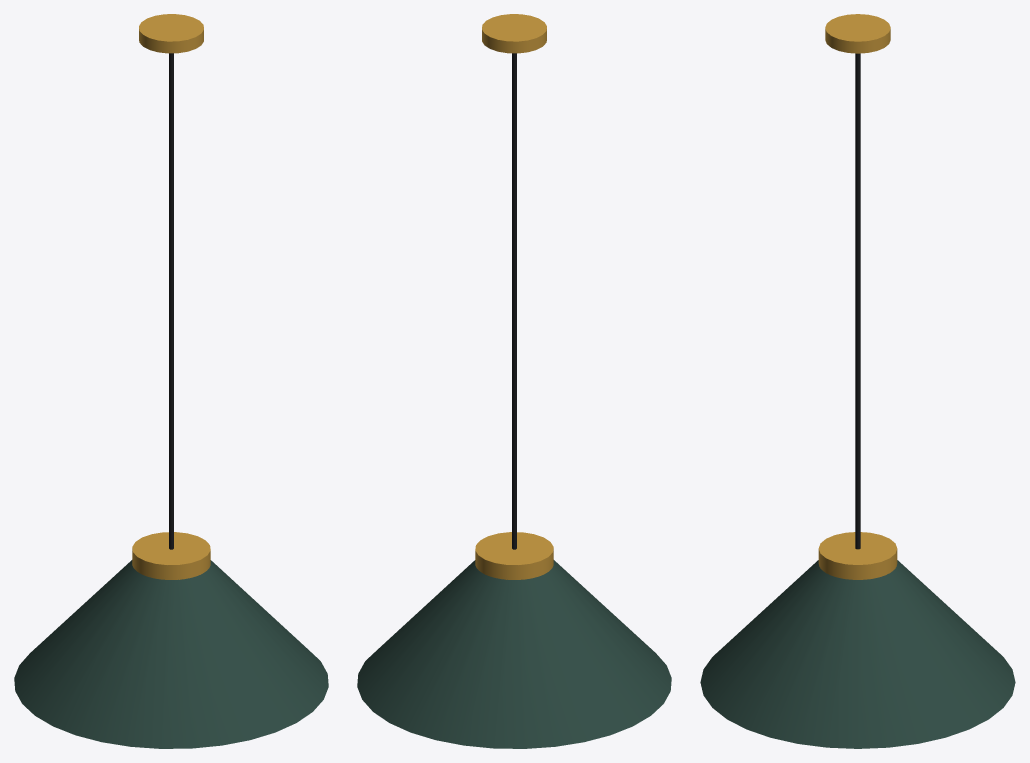
The model's file is pendant-lamp.glb.
The picture shows the model from 3 angles, left to right: view 1: azimuth 30°, elevation 25°; view 2: azimuth 150°, elevation 25°; view 3: azimuth 270°, elevation 25°; orthographic projection.
Visible parts, largest first — view 1: enamel, brass, blackPlastic; view 2: enamel, brass, blackPlastic; view 3: enamel, brass, blackPlastic.
Boxes of the visible parts, x1,y1,x2,y2 form: enamel: [14, 560, 328, 748]; brass: [132, 14, 210, 579]; blackPlastic: [169, 53, 173, 549]; enamel: [357, 560, 671, 748]; brass: [475, 14, 553, 579]; blackPlastic: [512, 53, 516, 549]; enamel: [700, 560, 1015, 748]; brass: [818, 14, 897, 579]; blackPlastic: [855, 53, 860, 549].
Bounding box in the file's own units: 0.48 × 1.1 × 0.48.
